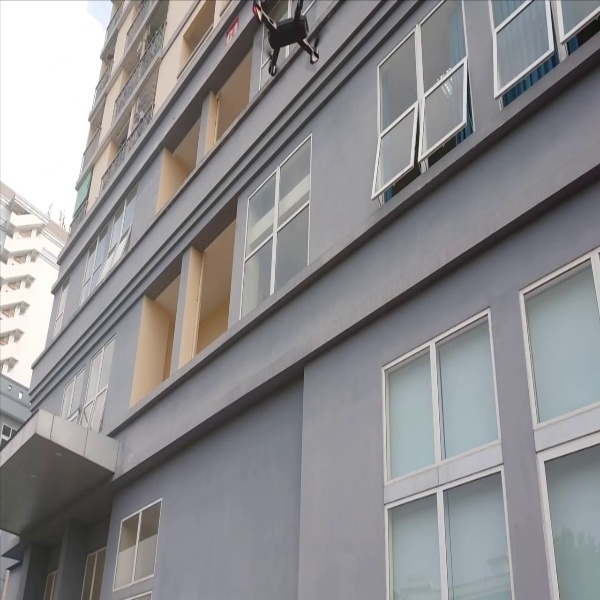drone: (247, 1, 327, 76)
